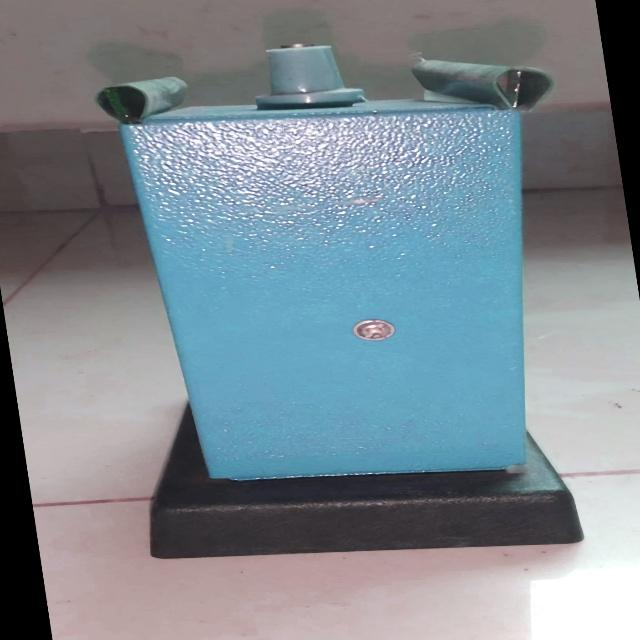Electroscope: (54, 35, 640, 572)
